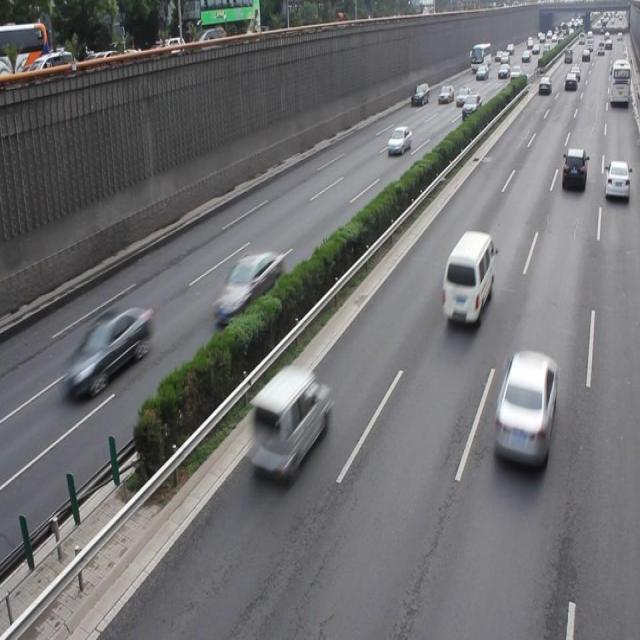car: (246, 364, 328, 480), (63, 305, 154, 397), (492, 349, 558, 469), (212, 250, 283, 324), (560, 148, 586, 193), (603, 160, 629, 201), (386, 124, 411, 156)
truck: (441, 230, 493, 322)
